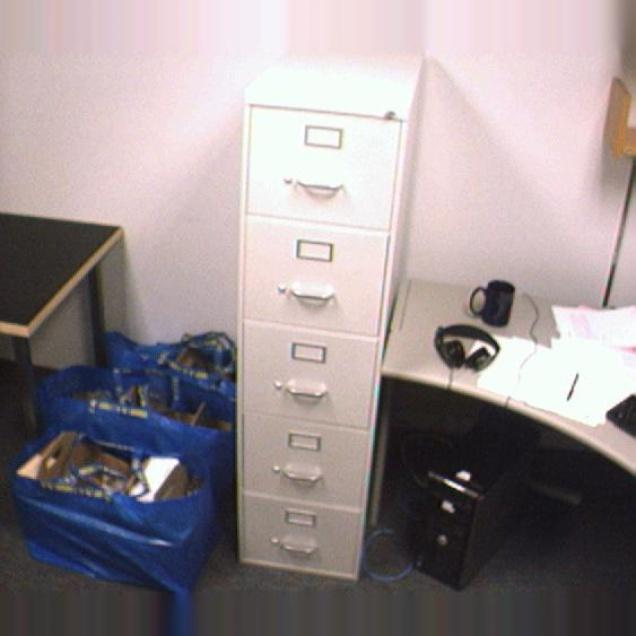Filing Cabinet: (232, 92, 410, 584)
Meja: (0, 210, 125, 367)
